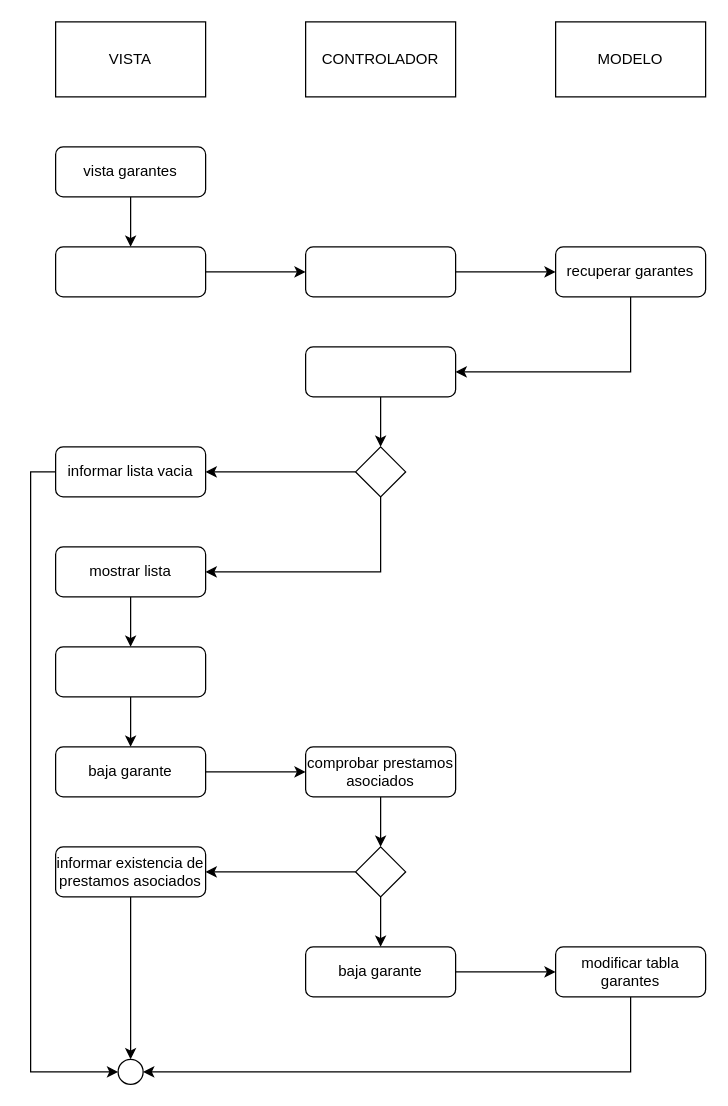
The diagram is 728 pixels wide and 1106 high, and some of its shapes have lost their labels. The shapes that lost their labels are listed below. From the top down, each one's centre as x and y in pixels, then its label:
At point (130, 271): "listar garantes".
At point (380, 271): "recuperar lista garantes".
At point (380, 371): "comprobar lista".
At point (130, 671): "seleccionar garante".
